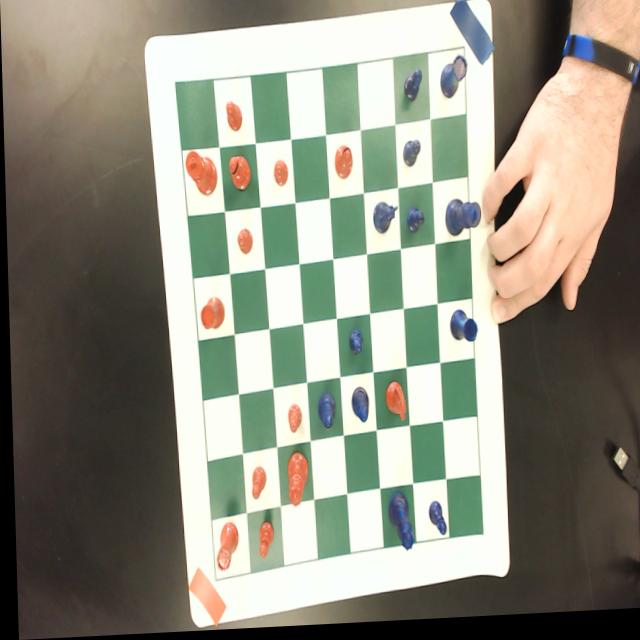B: (314, 394, 333, 435), (348, 389, 367, 428)
K: (444, 202, 481, 242)
N: (370, 200, 398, 240)
P: (425, 505, 445, 543), (402, 73, 423, 106), (401, 143, 422, 174), (405, 209, 424, 238), (347, 332, 361, 360)
Q: (384, 496, 411, 557)
R: (439, 59, 468, 105), (447, 313, 476, 350)
b: (228, 157, 251, 194), (333, 149, 353, 184)
k: (184, 152, 216, 199)
n: (382, 383, 404, 428)
p: (255, 521, 272, 562), (224, 102, 243, 136), (248, 469, 264, 503), (235, 229, 252, 259), (271, 162, 288, 191), (285, 408, 300, 437)
q: (283, 455, 306, 511)
r: (211, 523, 237, 576), (198, 299, 223, 332)
